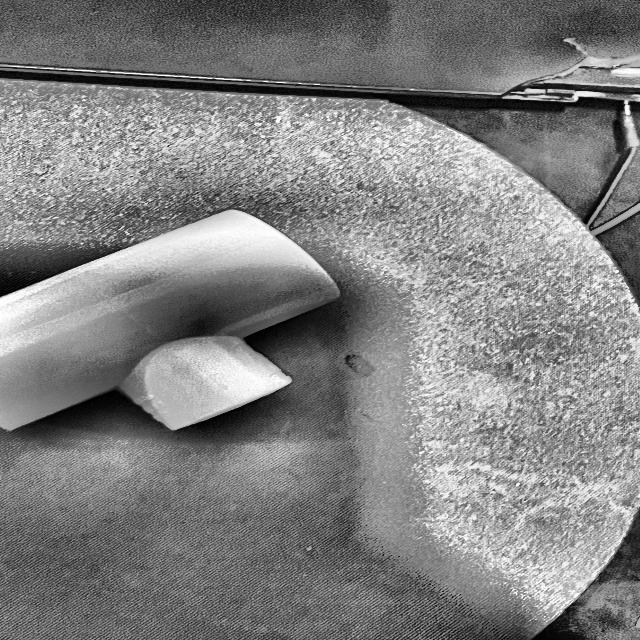EQUALTEE: (0, 210, 341, 433)
